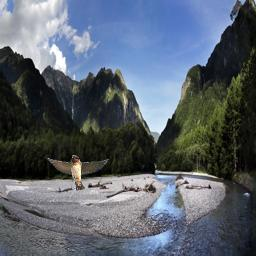Swallow: (45, 155, 109, 191)
